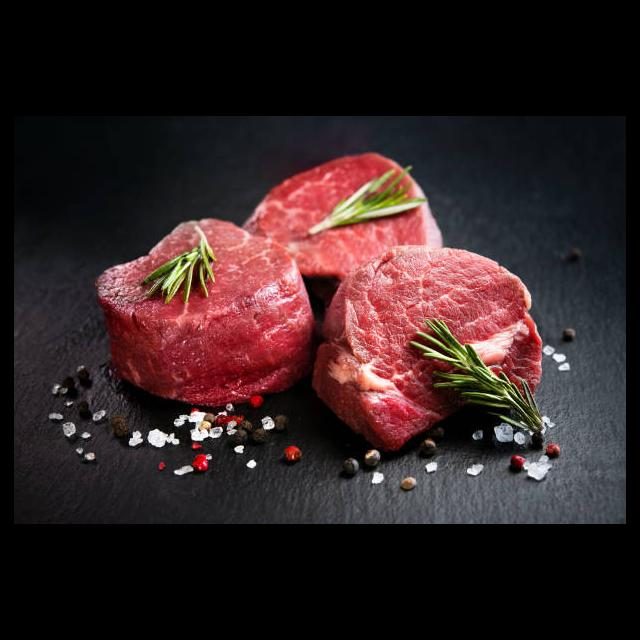beef: (313, 245, 544, 455), (94, 218, 313, 406), (236, 152, 444, 280)
